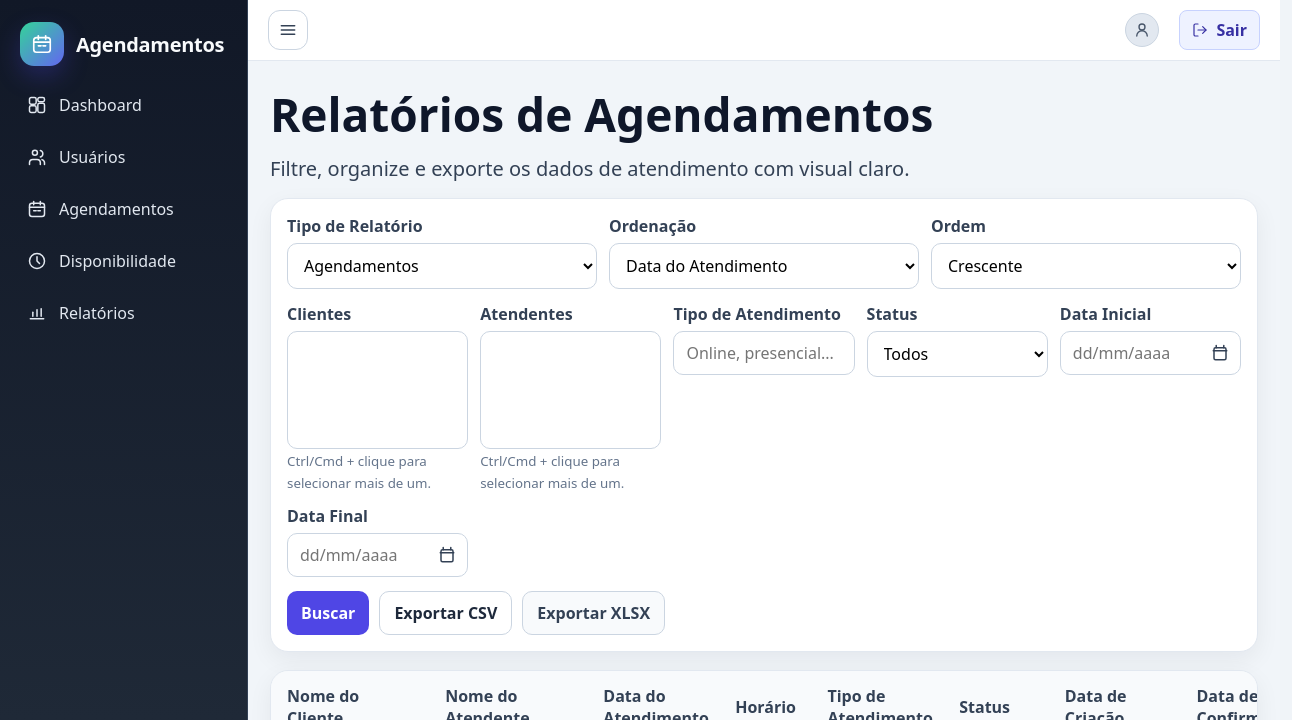
Scenario: Relatorios - RQF4.1 › exibe relatório de agendamentos
The width and height of the screenshot is (1292, 720).
What coordinates should you click on to do the following:
click the button "Buscar"
I would click on:
 (328, 613)
Its box is [287,591,369,635].
(page scrolled)
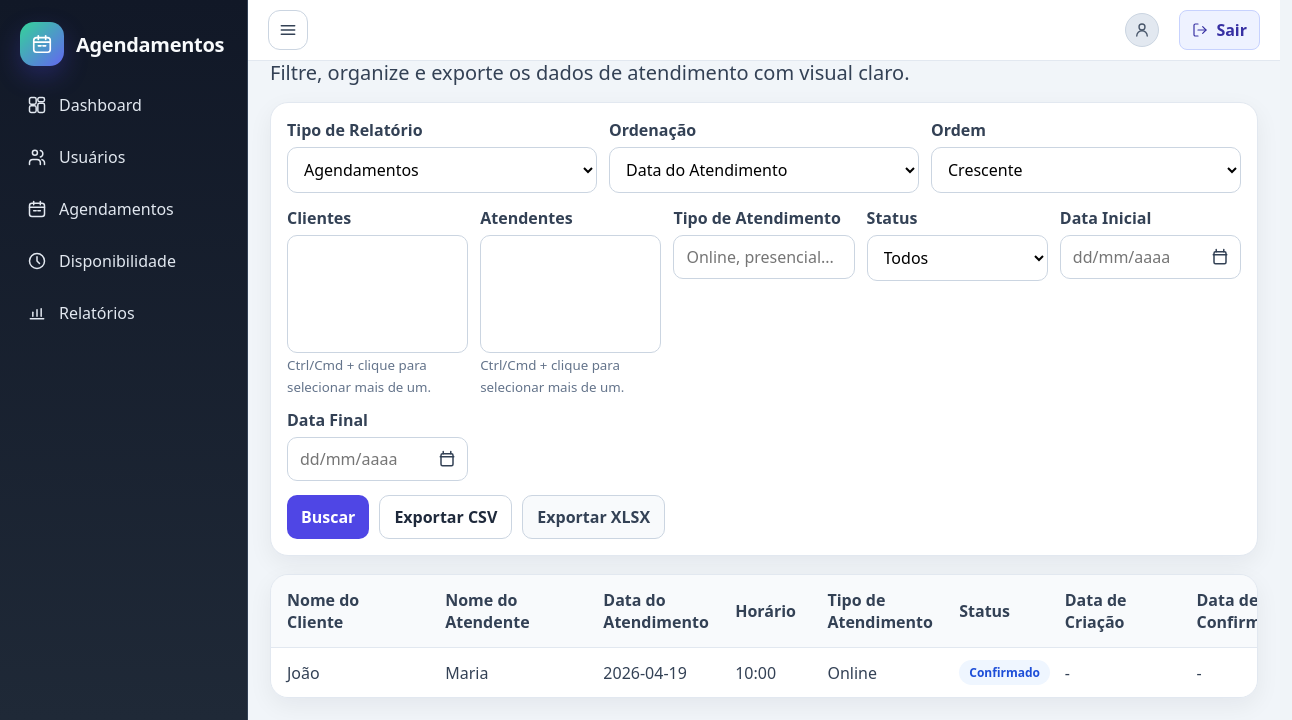
expect the text "João" is shown: met, box [271,648,429,697]
expect the text "Maria" is shown: met, box [429,648,587,697]
expect the text "Online" is shown: met, box [811,648,943,697]
